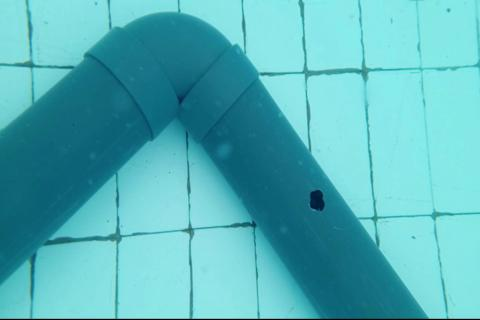kebocoran: (307, 187, 325, 212)
